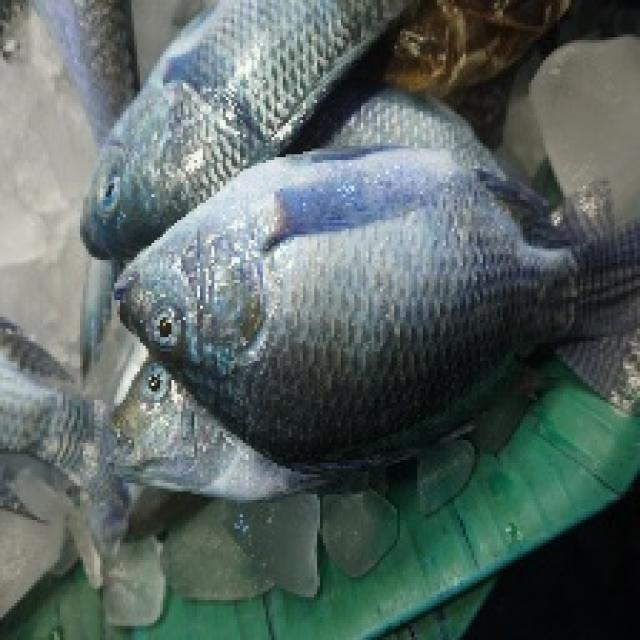Fresh: (98, 149, 640, 472)
